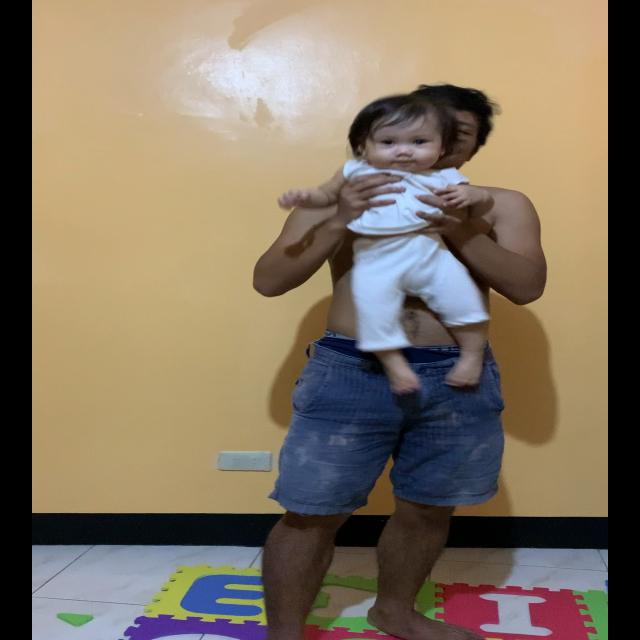adult: (251, 82, 548, 640)
child: (276, 94, 497, 396)
